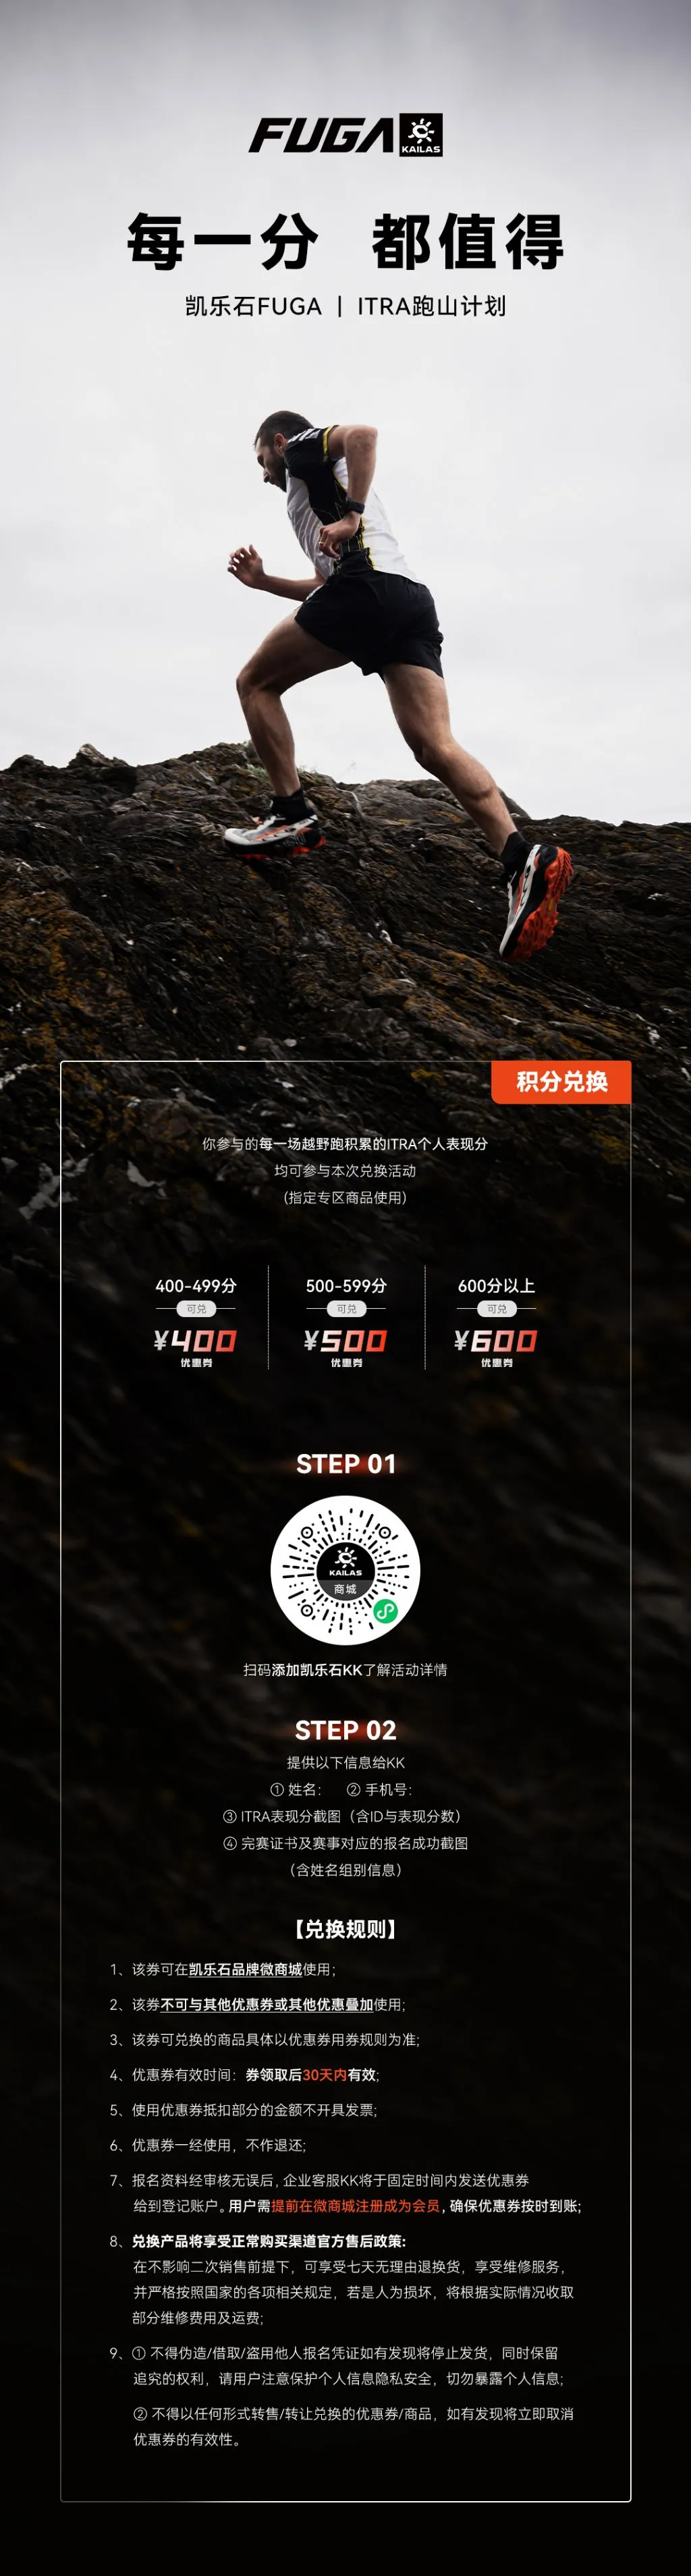code: (261, 1485, 428, 1654)
